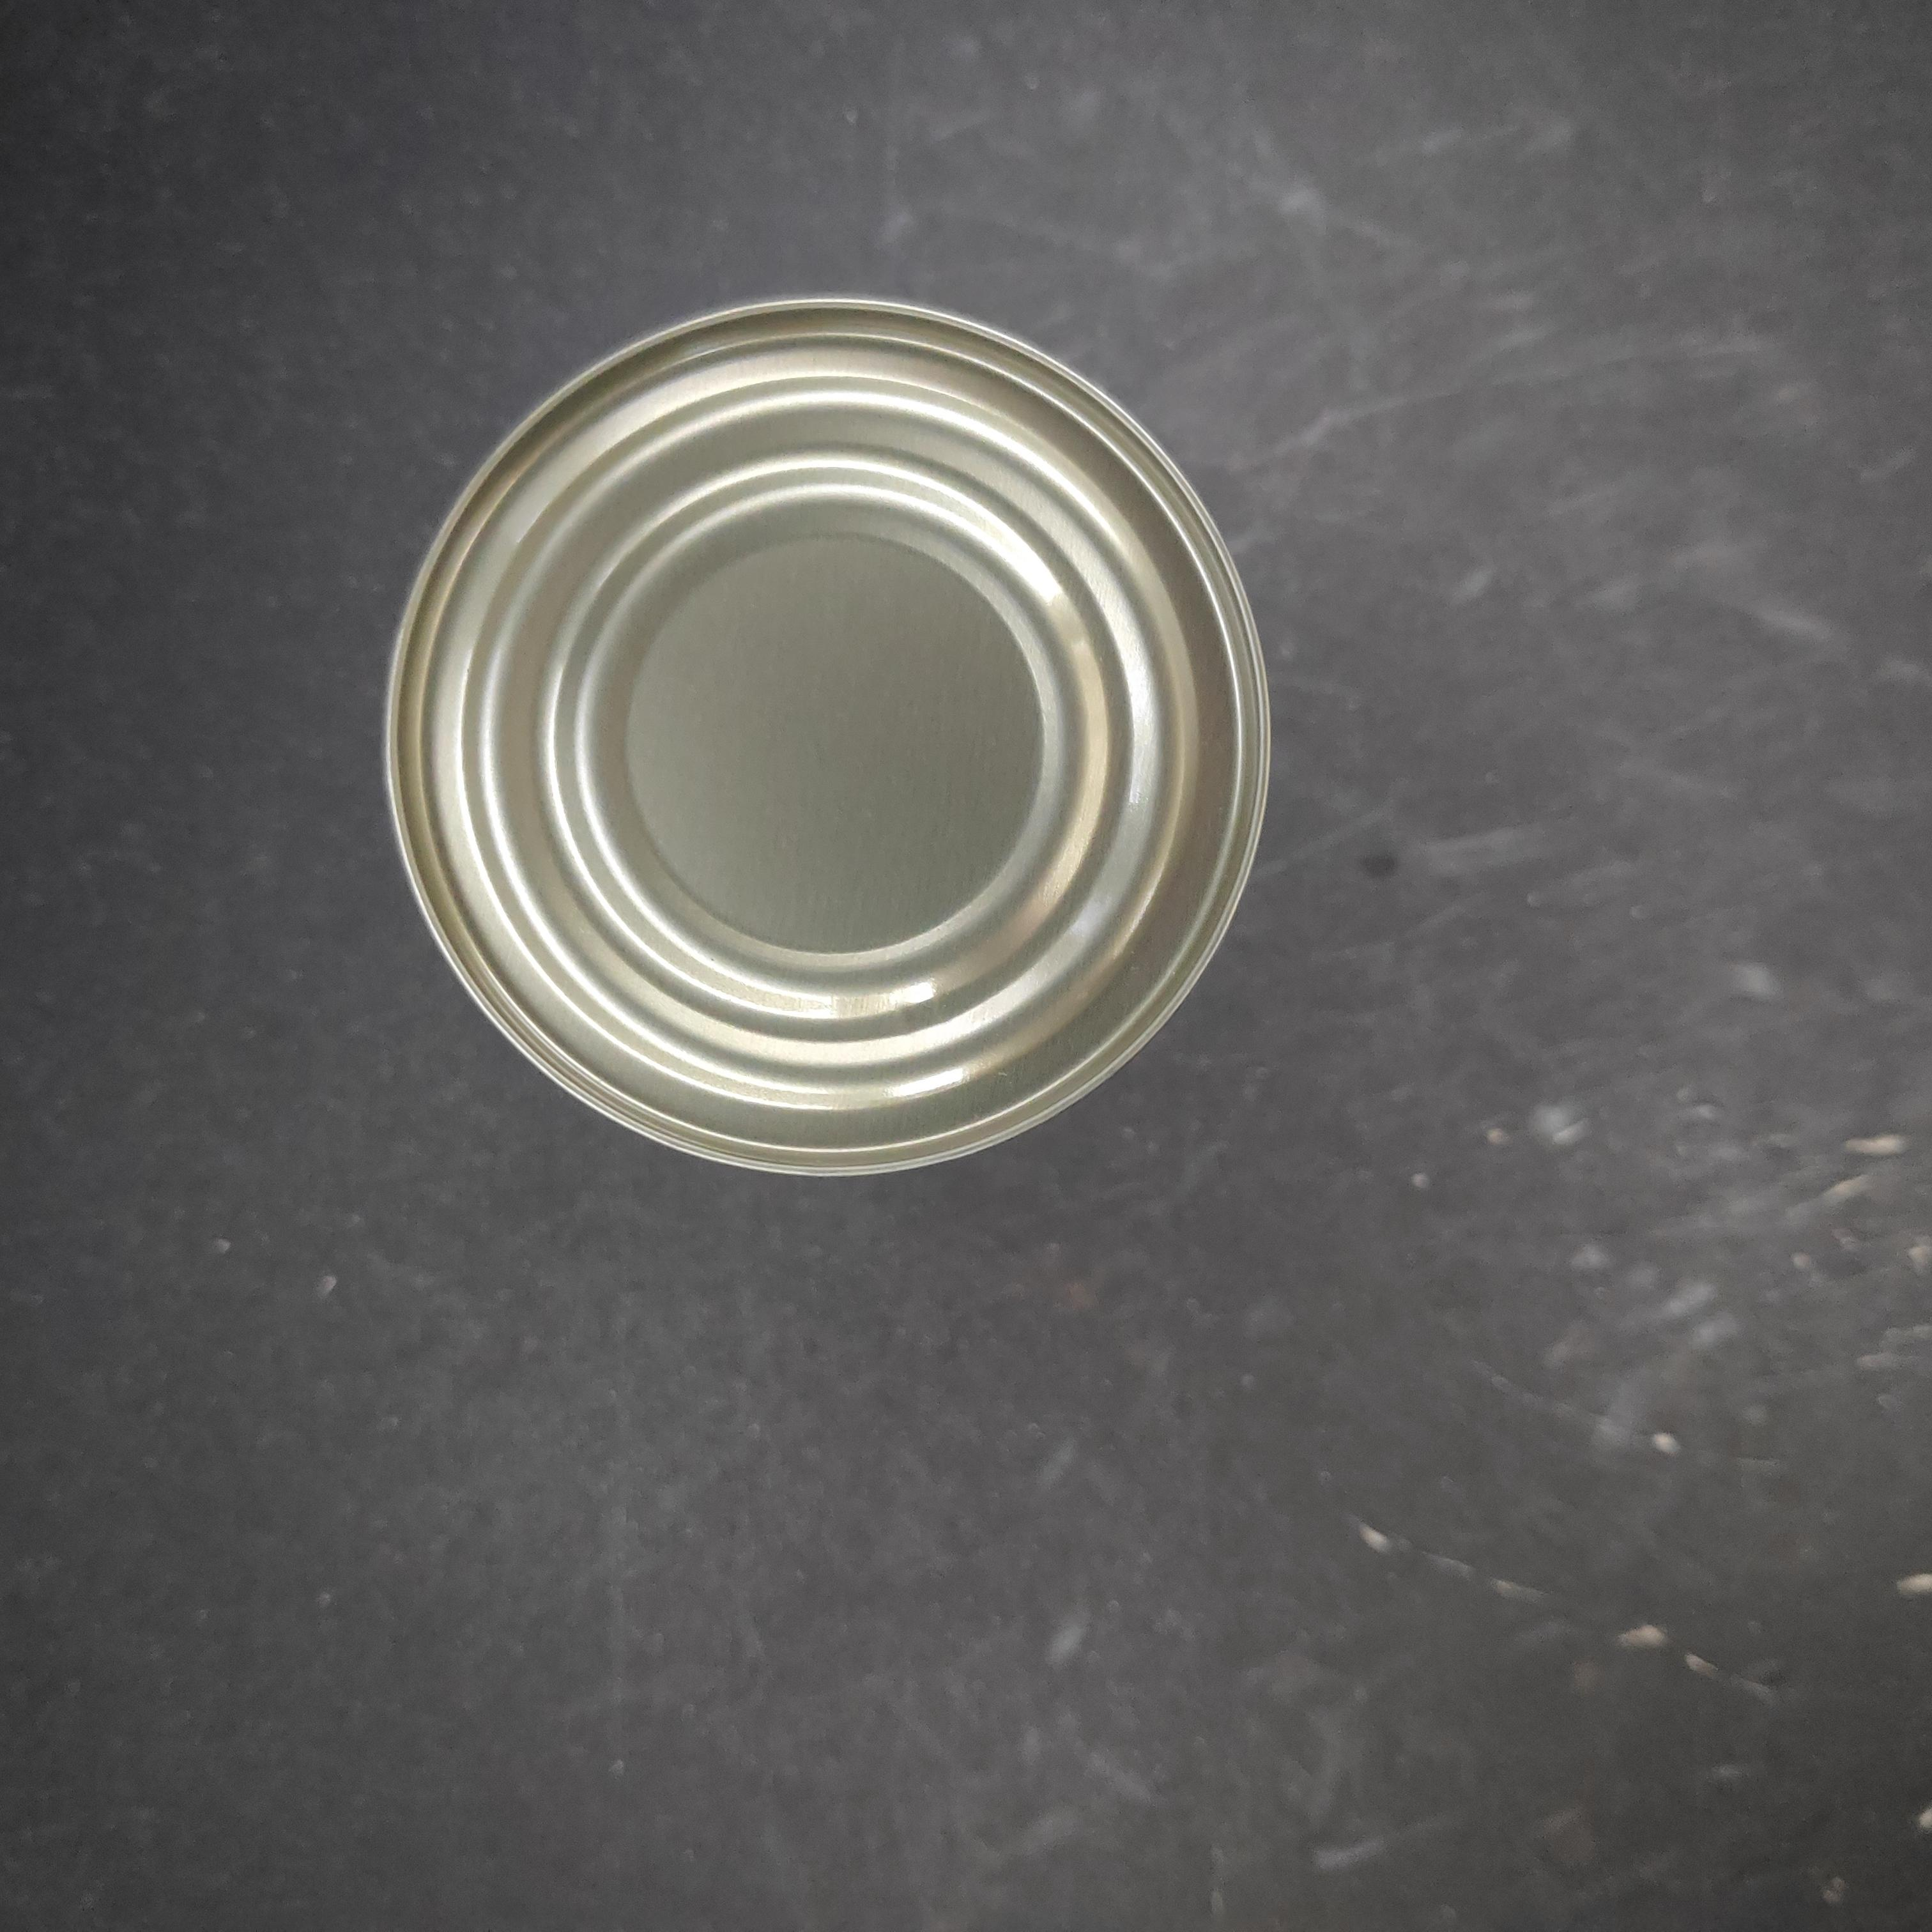No defect: (736, 368, 1652, 1297)
